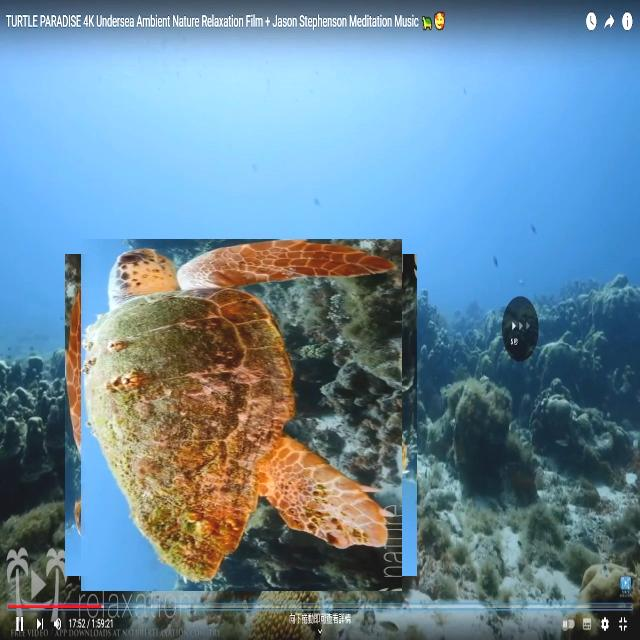Sea turtle: (72, 246, 410, 584)
